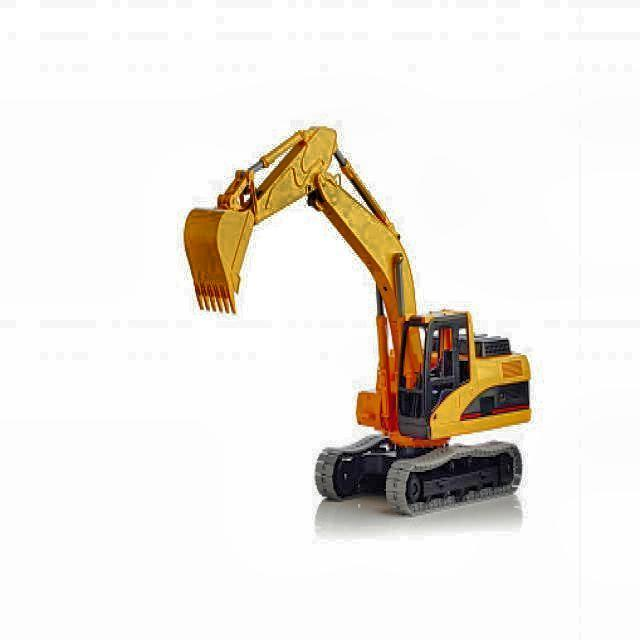excavator: (179, 124, 536, 518)
